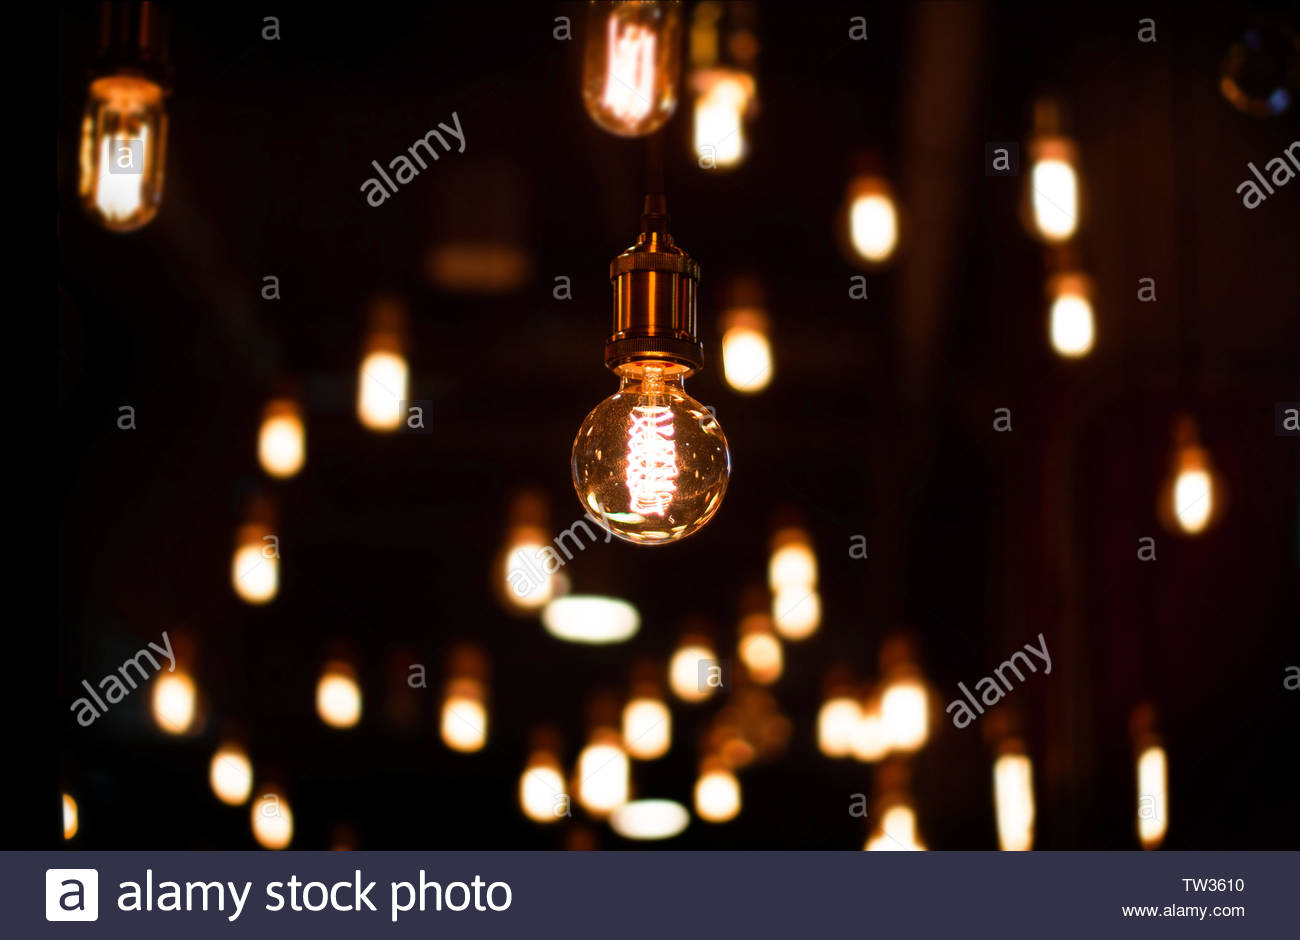bulb: (551, 323, 748, 579), (69, 49, 195, 266)
